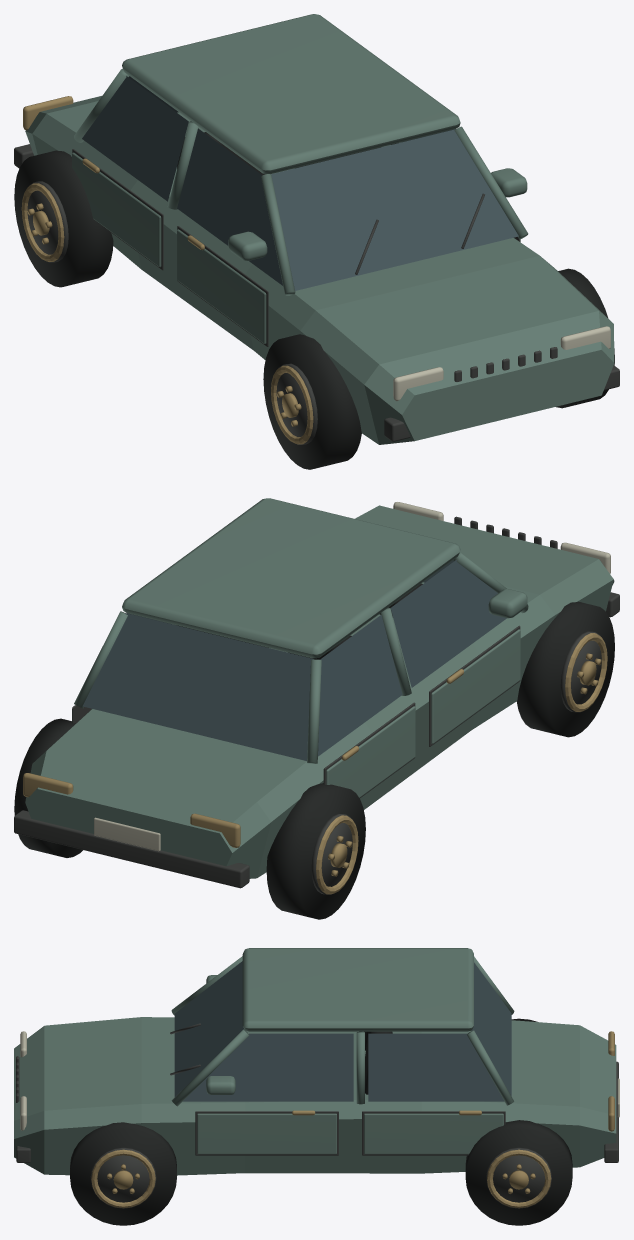
The model's file is car.glb.
The picture shows the model from 3 angles, top to bottom: view 1: azimuth 30°, elevation 25°; view 2: azimuth 150°, elevation 25°; view 3: azimuth 270°, elevation 25°; orthographic projection. The views are drawn at different scales.
Parts seen in each view (by area): view 1: car; view 2: car; view 3: car.
Boxes of the visible parts, bbox=[...] form: car: bbox=[14, 14, 619, 469]; car: bbox=[14, 498, 619, 919]; car: bbox=[14, 948, 619, 1225].
Size of the model in its own units: 2.29 by 1.69 by 4.98.
